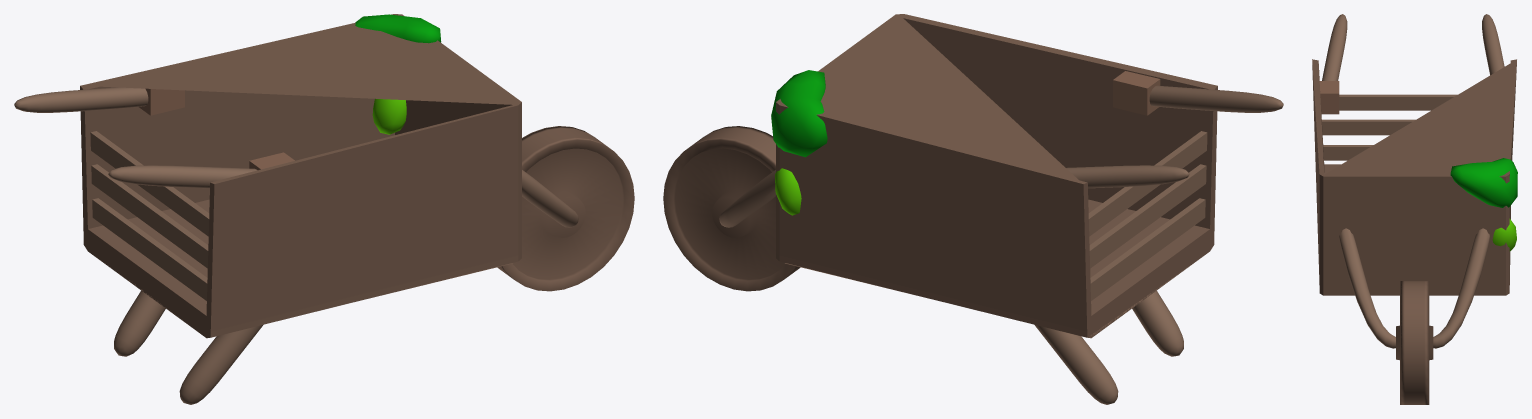
The model's file is Carrito.fbx.
The picture shows the model from 3 angles, left to right: view 1: azimuth 30°, elevation 25°; view 2: azimuth 150°, elevation 25°; view 3: azimuth 270°, elevation 25°; orthographic projection. The views are drawn at different scales.
Visible parts, largest first — view 1: Cube, Cylinder, Cube.010, Cube.009, Cube.005, Cube.003, Cube.006, Cube.011, Cube.004, Icosphere, Cube.001, Icosphere.001 (+1 smaller); view 2: Cube, Cylinder, Icosphere, Cube.010, Cube.009, Cube.006, Cube.004, Cube.011, Cube.005, Cube.003, Cube.007, Cube.002 (+1 smaller); view 3: Cube, Cylinder, Icosphere, Cube.002, Cube.001, Cube.011, Cube.010, Cube.006, Cube.005, Cube.007, Cube.009, Icosphere.001.
Part boxes in pixels (left/top/right/bottom): Cube: left=80, top=14, right=521, bottom=338; Cylinder: left=497, top=126, right=634, bottom=291; Cube.010: left=91, top=164, right=208, bottom=268; Cube.009: left=92, top=198, right=207, bottom=300; Cube.005: left=14, top=87, right=148, bottom=112; Cube.003: left=179, top=324, right=263, bottom=404; Cube.006: left=108, top=165, right=257, bottom=188; Cube.011: left=90, top=131, right=209, bottom=236; Cube.004: left=114, top=290, right=165, bottom=356; Icosphere: left=355, top=14, right=441, bottom=43; Cube.001: left=522, top=170, right=578, bottom=227; Icosphere.001: left=372, top=98, right=406, bottom=134; Cube: left=776, top=14, right=1217, bottom=338; Cylinder: left=663, top=126, right=800, bottom=291; Icosphere: left=771, top=70, right=827, bottom=157; Cube.010: left=1089, top=164, right=1206, bottom=268; Cube.009: left=1090, top=198, right=1205, bottom=300; Cube.006: left=1149, top=85, right=1283, bottom=112; Cube.004: left=1034, top=324, right=1118, bottom=404; Cube.011: left=1088, top=131, right=1207, bottom=236; Cube.005: left=1066, top=165, right=1189, bottom=188; Cube.003: left=1132, top=290, right=1183, bottom=356; Cube.007: left=1113, top=71, right=1160, bottom=115; Cube.002: left=719, top=170, right=775, bottom=227; Cube: left=1312, top=59, right=1516, bottom=295; Cylinder: left=1396, top=281, right=1433, bottom=404; Icosphere: left=1450, top=158, right=1517, bottom=207; Cube.002: left=1433, top=228, right=1489, bottom=348; Cube.001: left=1339, top=228, right=1395, bottom=348; Cube.011: left=1339, top=94, right=1457, bottom=110; Cube.010: left=1322, top=119, right=1415, bottom=135; Cube.006: left=1322, top=14, right=1347, bottom=80; Cube.005: left=1482, top=14, right=1504, bottom=75; Cube.007: left=1319, top=81, right=1339, bottom=114; Cube.009: left=1323, top=145, right=1373, bottom=160; Icosphere.001: left=1492, top=218, right=1516, bottom=251.
Bounding box in the file's own units: 800 × 362 × 331.
